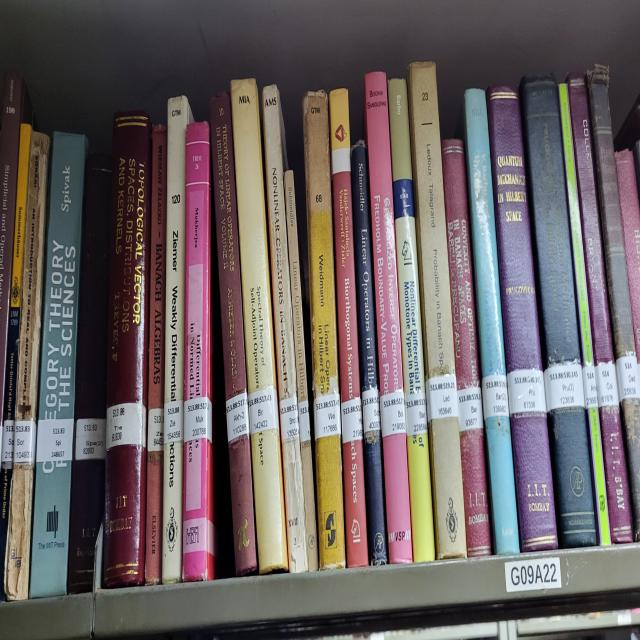Book: (520, 76, 596, 547), (486, 87, 558, 552), (568, 76, 632, 544), (408, 62, 466, 557), (231, 81, 288, 574), (30, 133, 88, 598), (464, 89, 520, 555), (588, 65, 640, 541), (559, 84, 611, 547), (364, 73, 412, 563), (210, 92, 258, 574), (262, 87, 309, 571), (388, 78, 435, 560), (104, 111, 151, 587), (5, 133, 50, 601), (302, 92, 346, 568), (441, 141, 491, 557), (68, 154, 111, 593), (330, 89, 369, 568), (351, 141, 388, 565), (0, 124, 31, 601), (182, 122, 214, 582), (162, 97, 192, 584), (284, 170, 319, 571), (145, 124, 168, 584)
Label: (544, 363, 585, 411), (106, 403, 146, 449), (508, 368, 546, 414), (36, 419, 74, 463), (426, 373, 459, 422), (249, 387, 279, 436), (481, 373, 509, 419), (75, 419, 106, 460), (380, 390, 406, 438), (314, 392, 341, 438), (184, 398, 212, 441), (458, 387, 484, 433), (226, 390, 249, 441), (616, 354, 639, 400), (595, 363, 619, 406), (14, 419, 36, 465), (405, 392, 428, 436), (341, 398, 362, 444), (362, 387, 380, 436), (164, 400, 184, 444), (280, 395, 299, 441), (582, 365, 598, 409), (148, 409, 164, 452), (1, 419, 15, 468), (299, 400, 310, 444)
